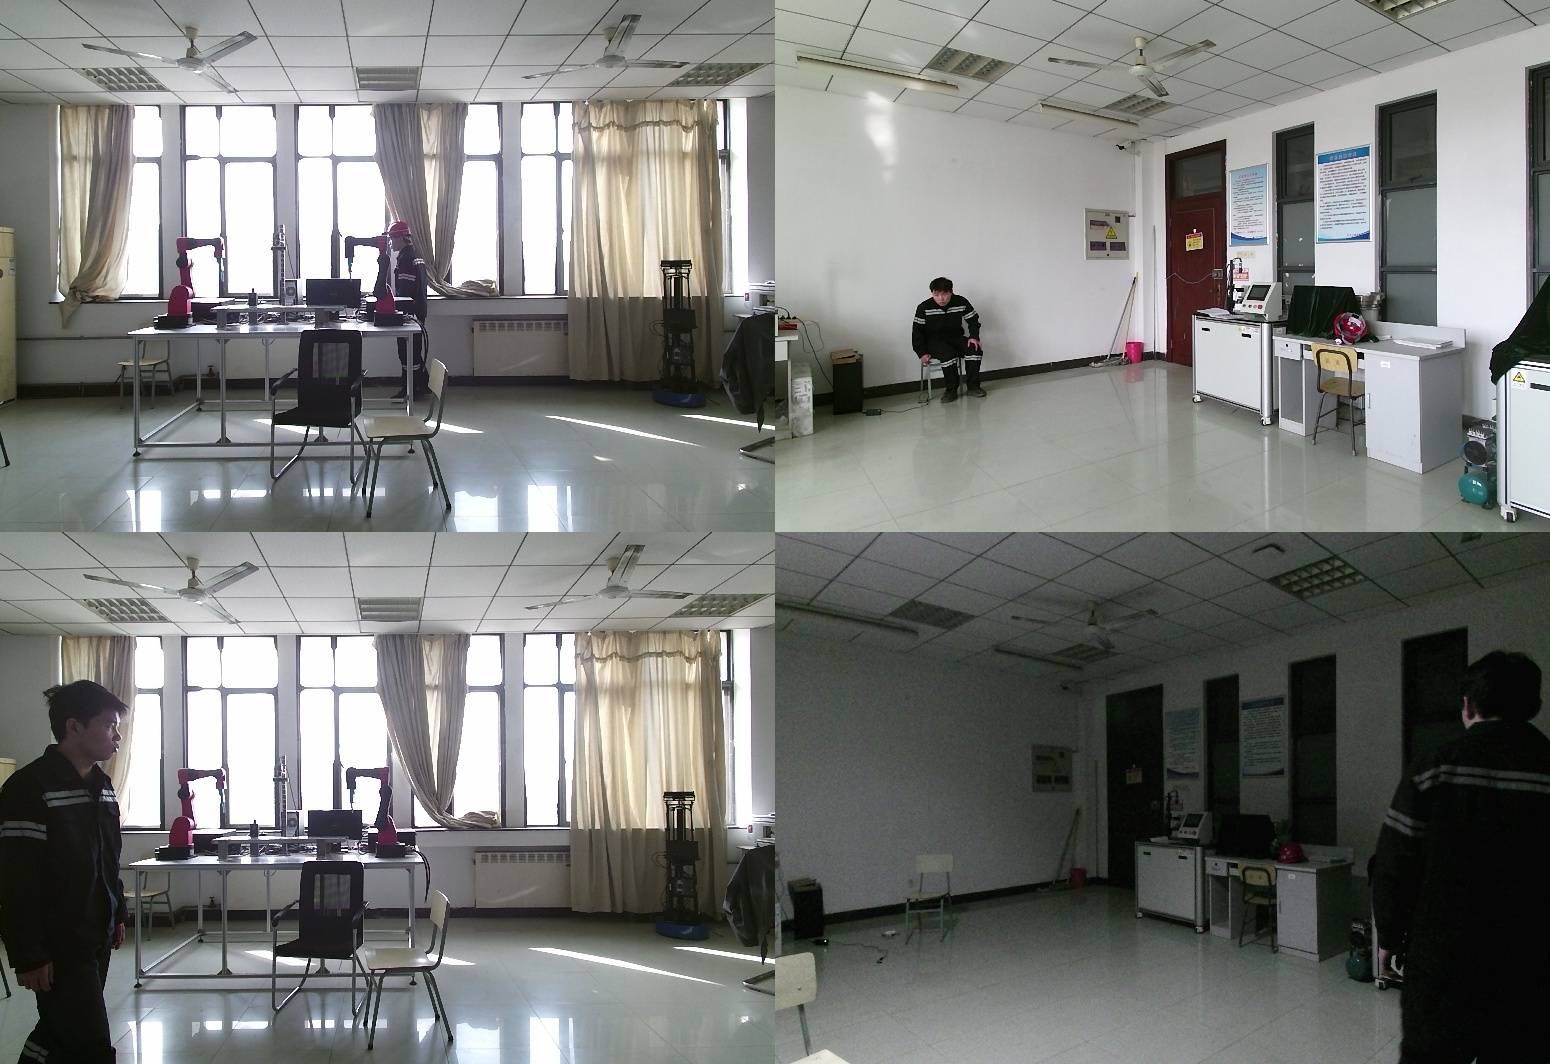person: (1384, 645, 1550, 1064), (1, 684, 133, 1064), (909, 278, 989, 403), (383, 220, 428, 402)
